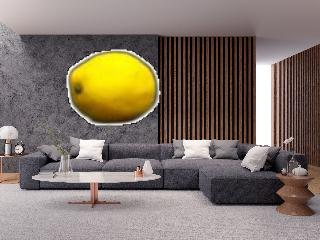lemon: (71, 52, 157, 123)
